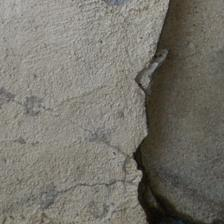Crack: (120, 35, 185, 149), (170, 78, 215, 170), (105, 187, 138, 224)
